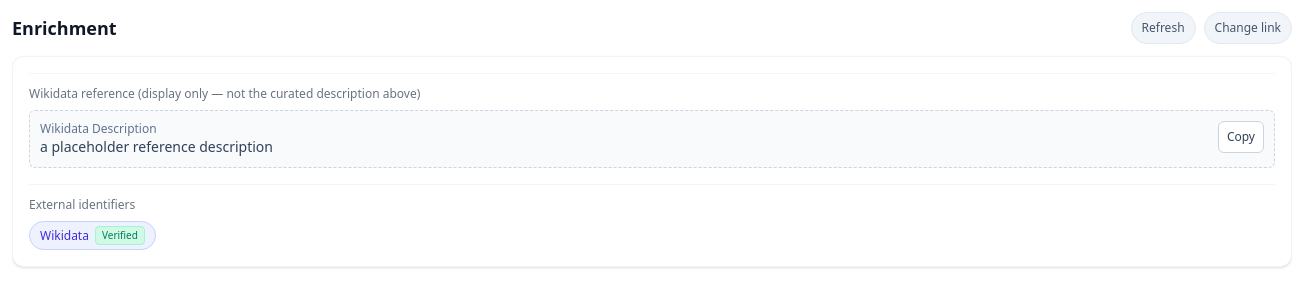
EntityEnrichmentSection — property rendering (Feature 079, US3) › display-only reference blocks (wikidata_description / wikidata_aliases) › copies the reference text to the clipboard and shows a confirmation
Click the button with aria-label "copy wikidata description" at (1241, 137), box [1218,121,1264,153]
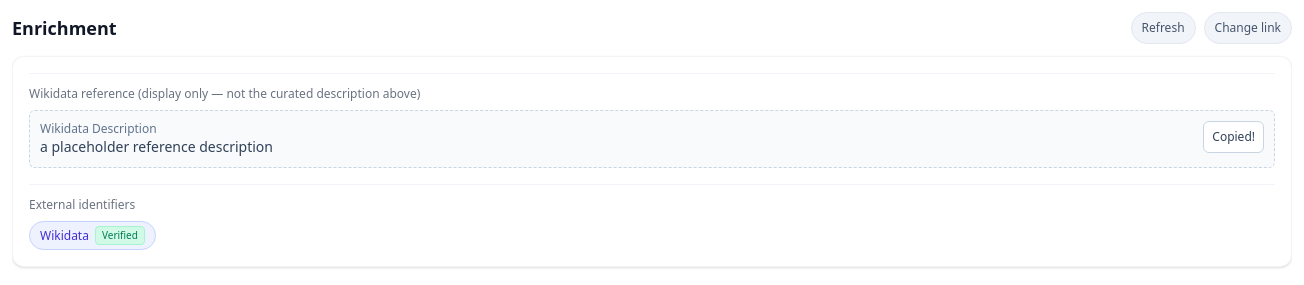
Expected: the button with aria-label "copy wikidata description" shows "Copied", [1203,121,1264,153]
